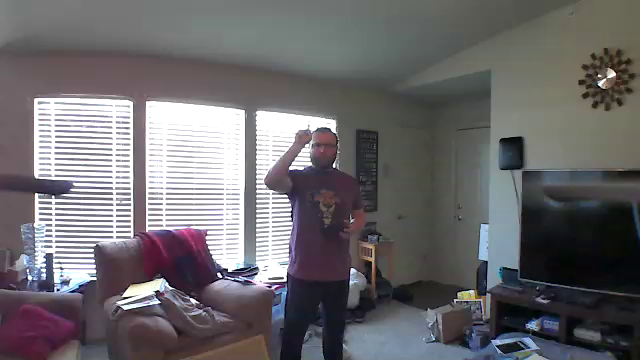up: (290, 119, 315, 148)
